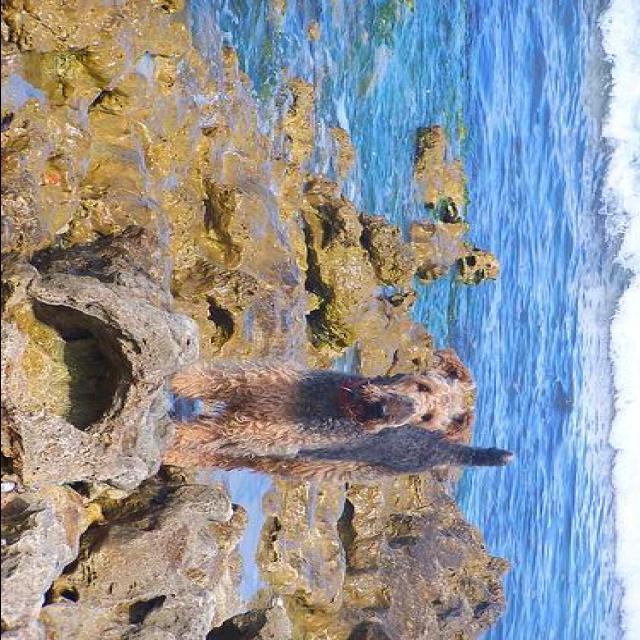airedale: (155, 346, 522, 488)
